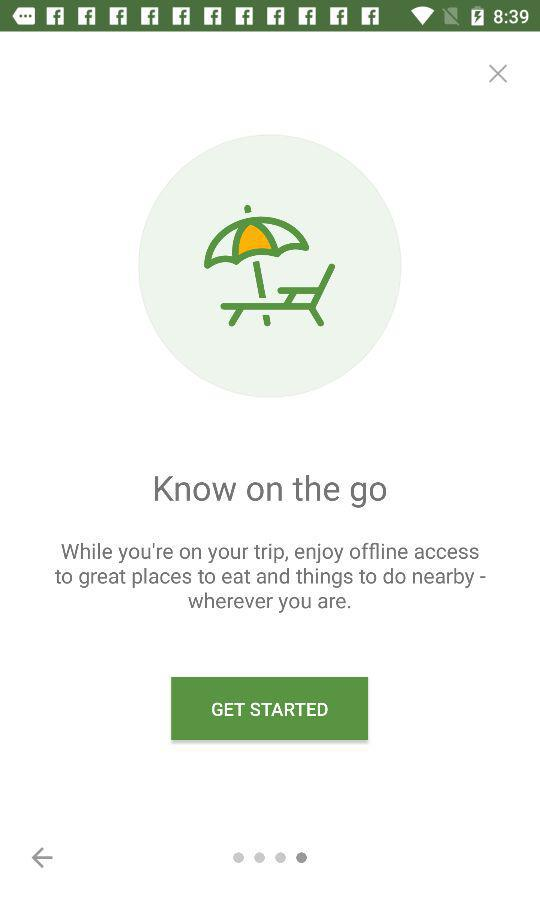Icon: (32, 847, 55, 869), (488, 64, 509, 85)
Image: (138, 134, 402, 399)
PageIndicator: (232, 851, 309, 865)
Text: (54, 541, 488, 615), (154, 474, 388, 510)
TextButton: (171, 677, 369, 741)
UpperTaskBar: (1, 1, 540, 33)
